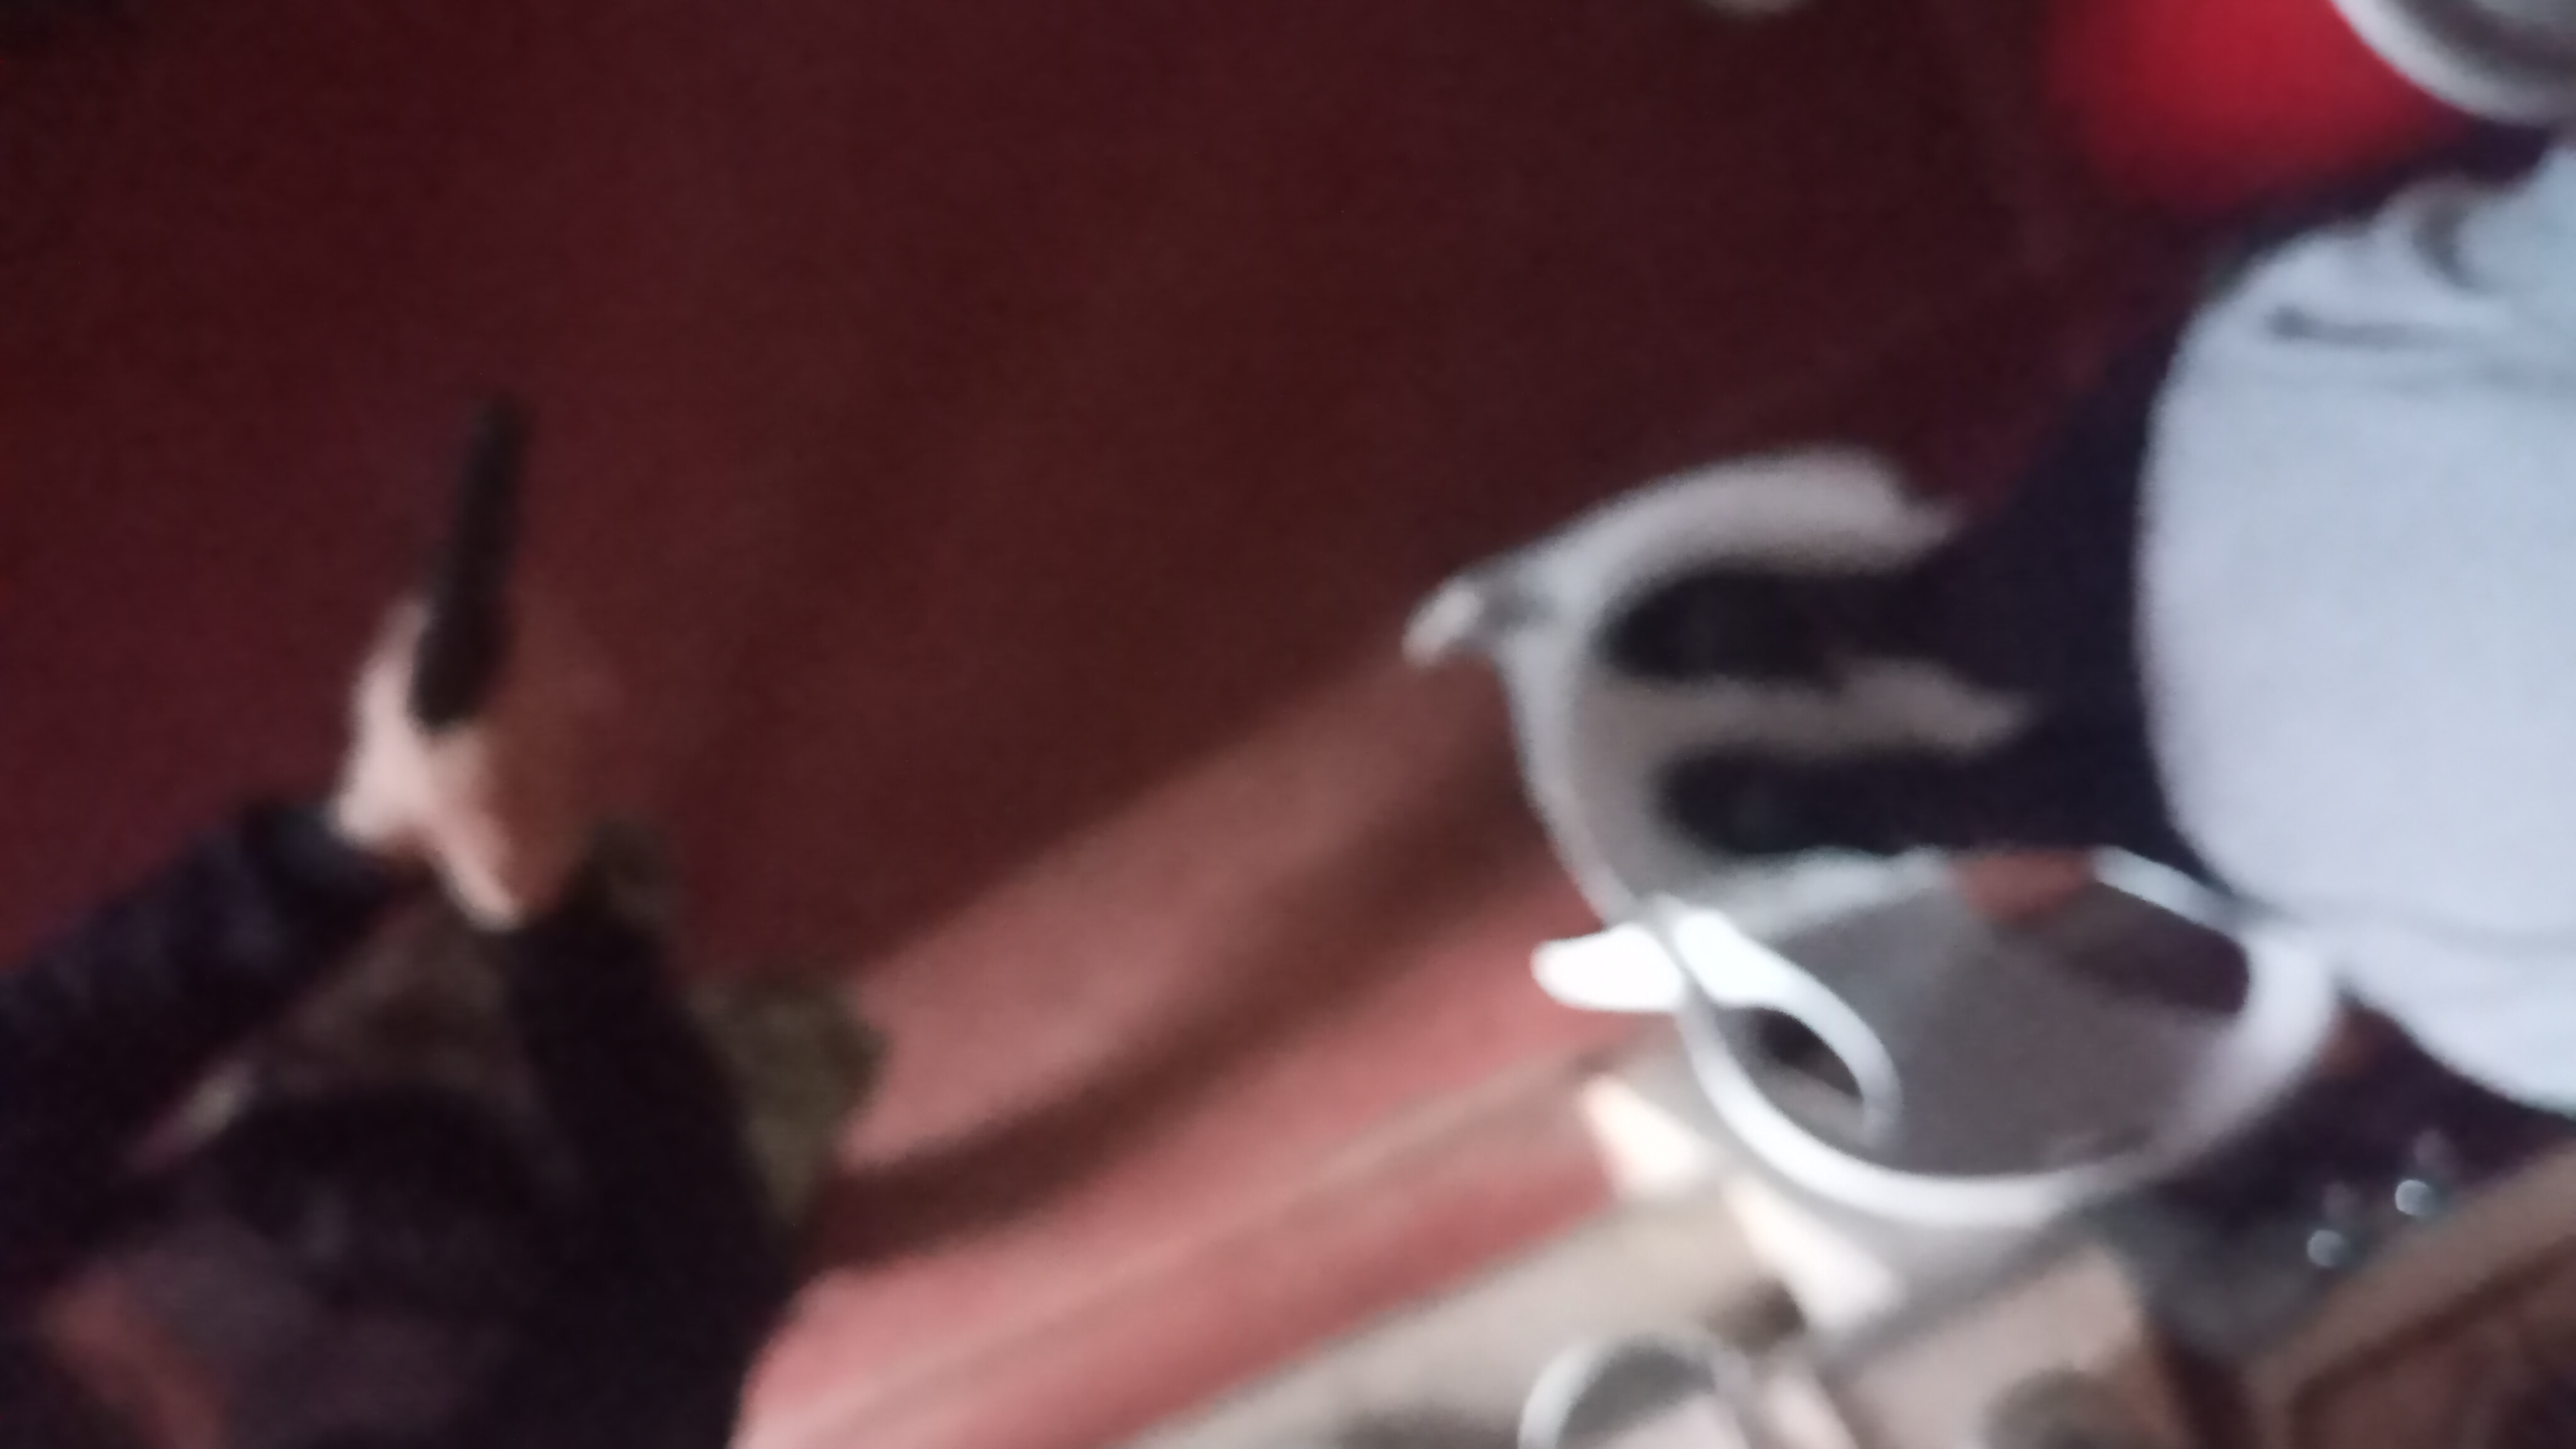Arma: (384, 393, 545, 743)
